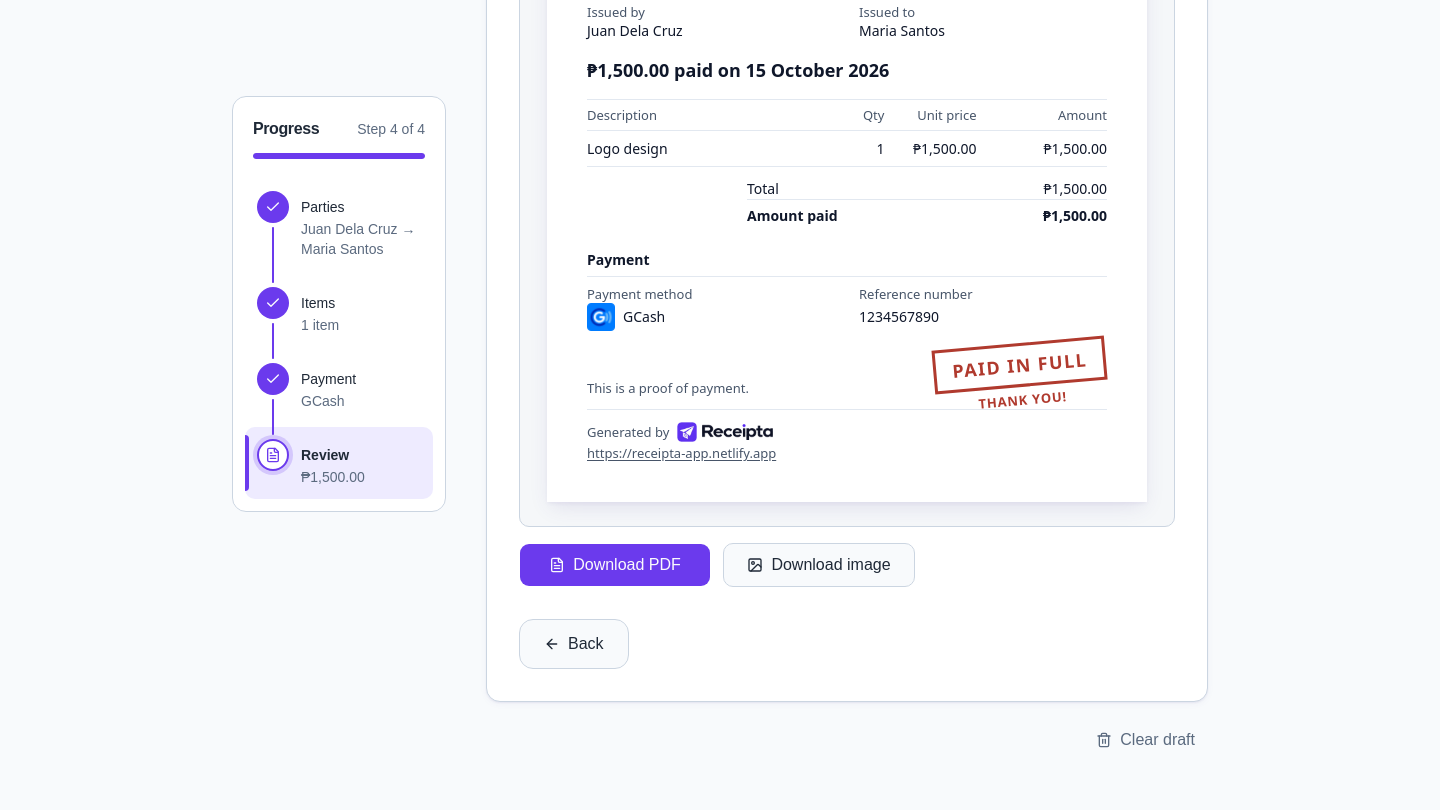
Test: the offer to start a new receipt › keeps every field and the stored draft when the receipt is kept
This screenshot has width=1440, height=810.
(page scrolled)
Click the button "Download PDF".
click(615, 565)  # box 519,543 -> 711,587
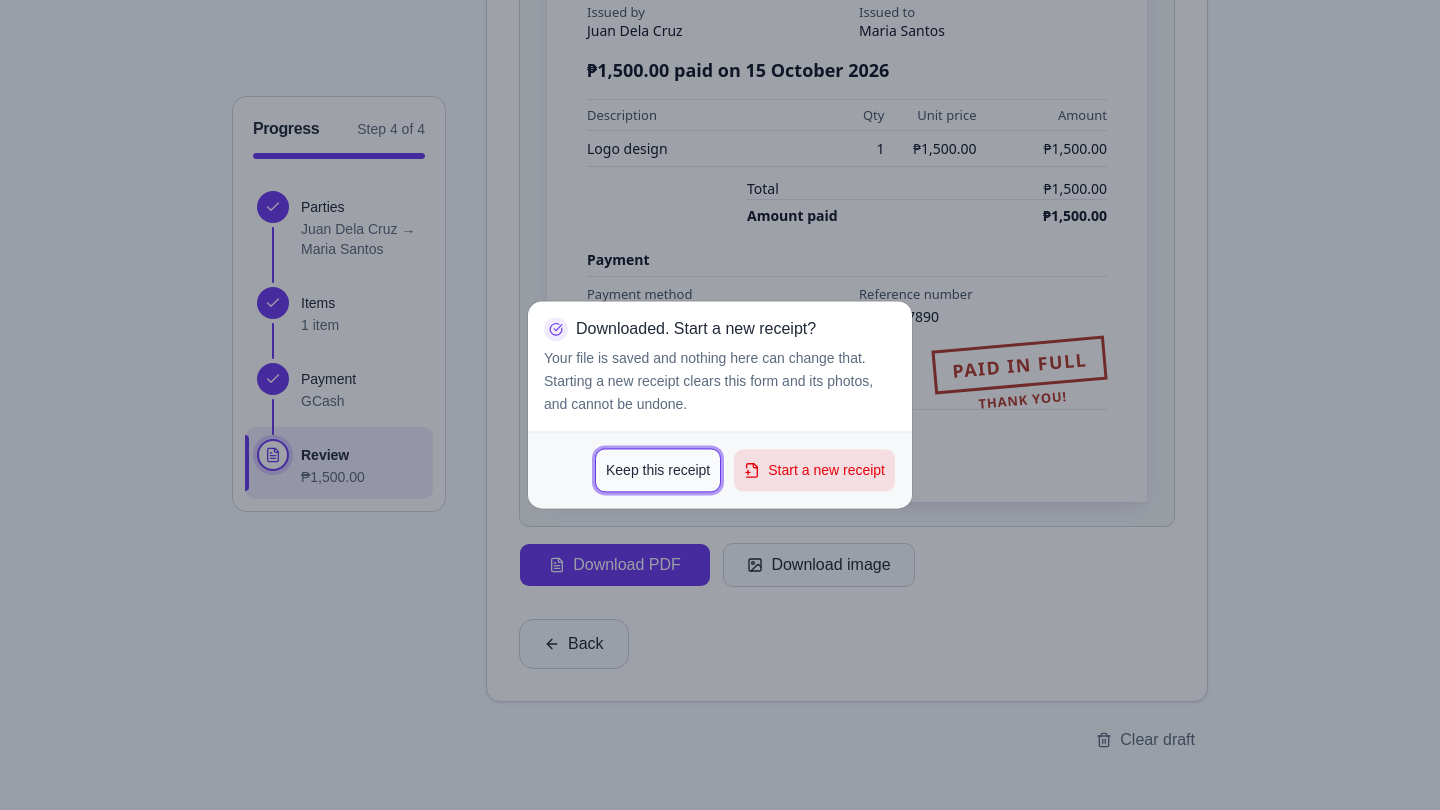
Expected: the dialog is shown, 528,301 -> 912,509
Click the button "Keep this receipt".
click(658, 471)  # box 595,449 -> 721,493
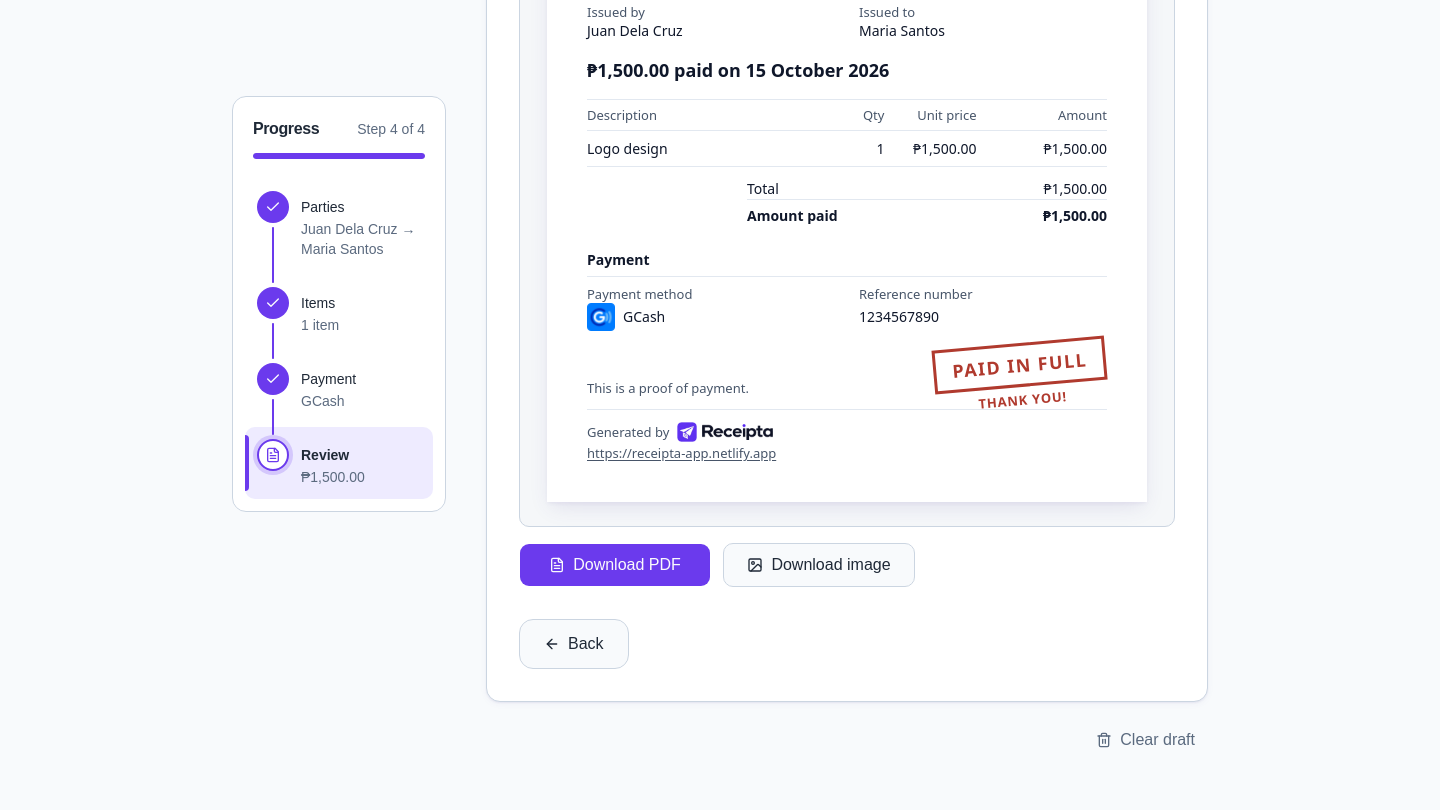
Expected: the text "Maria Santos" is shown, 859,21 -> 945,40
Expected: the dialog is gone
